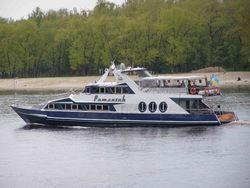yacht: (10, 59, 224, 127)
